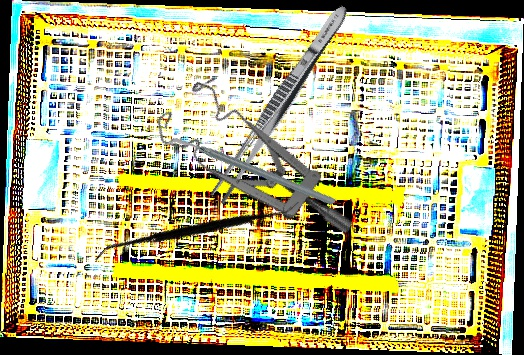Chopper: (163, 85, 337, 259)
Dressing Forceps: (207, 0, 354, 207)
Spatula Surgical: (94, 128, 301, 335)
Speculum: (144, 50, 358, 291)
